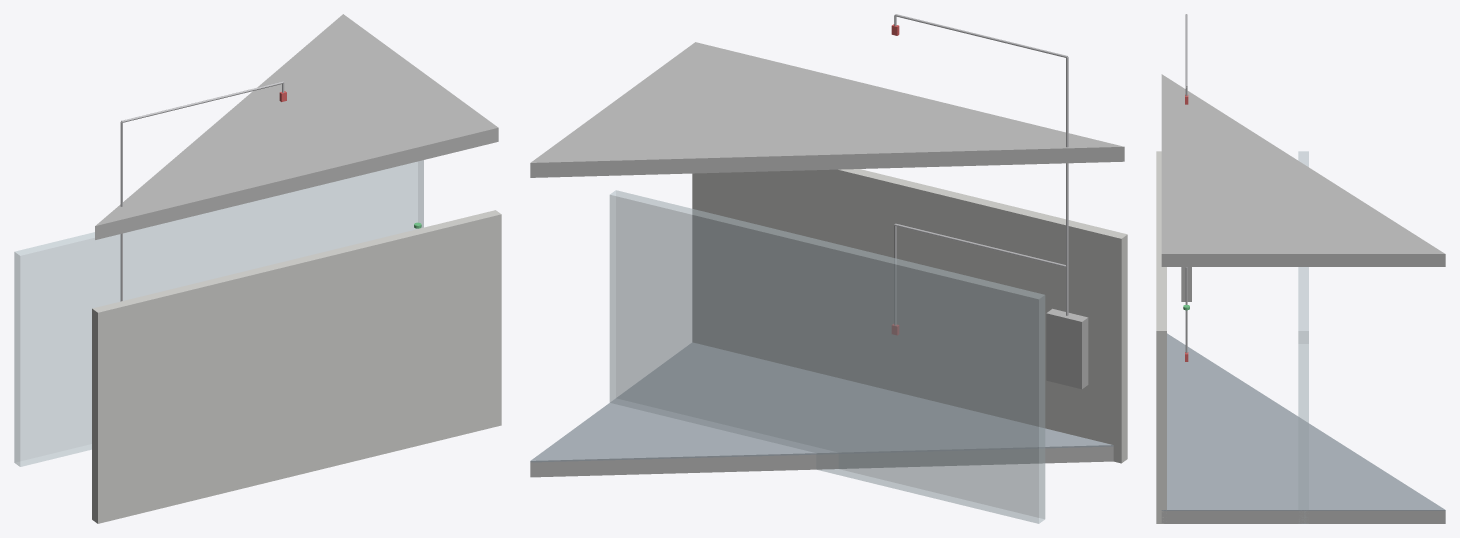
Rendered from layers-isolate-power.glb.
3 renders of one model, left to right at view 1: azimuth 30°, elevation 25°; view 2: azimuth 150°, elevation 25°; view 3: azimuth 270°, elevation 25°, orthographic. The views are drawn at different scales.
Visible parts, largest first — view 1: wall:one-a, wall:one-glass, slab:two, route:two; view 2: wall:one-glass, wall:one-a, slab:two, space:one, slab:one, equip:panel, route:two, route:one; view 3: slab:two, space:one, slab:one, wall:one-a, wall:one-glass, equip:panel.
Part boxes in pixels (x1,y1,x2,y2): wall:one-a: [92, 210, 501, 523]; wall:one-glass: [14, 160, 423, 466]; slab:two: [95, 14, 498, 239]; route:two: [120, 81, 284, 301]; wall:one-glass: [609, 190, 1045, 523]; wall:one-a: [692, 169, 1127, 463]; slab:two: [530, 42, 1124, 177]; space:one: [530, 342, 1113, 462]; slab:one: [530, 446, 1113, 477]; equip:panel: [1046, 308, 1088, 389]; route:two: [894, 14, 1068, 315]; route:one: [894, 223, 1068, 325]; slab:two: [1161, 74, 1445, 266]; space:one: [1161, 333, 1445, 510]; slab:one: [1161, 511, 1445, 523]; wall:one-a: [1156, 151, 1166, 523]; wall:one-glass: [1298, 151, 1308, 523]; equip:panel: [1181, 267, 1191, 301].
Bounding box in the file's own units: 6 × 5.41 × 4.08.
